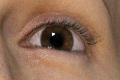eye: (42, 27, 73, 50)
